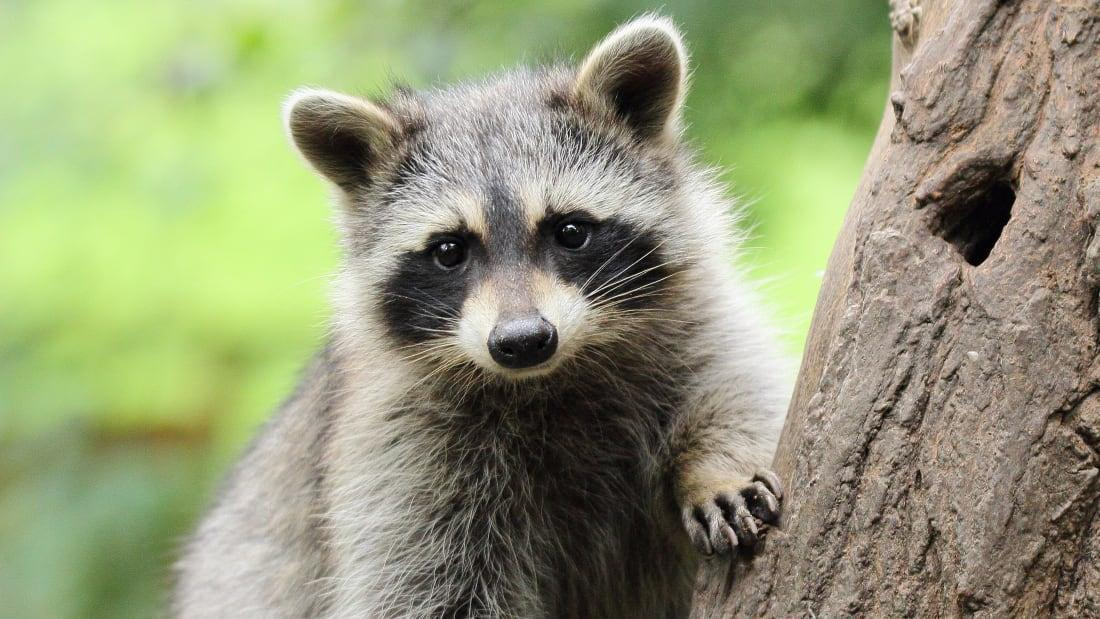raccoon: (170, 17, 786, 619)
